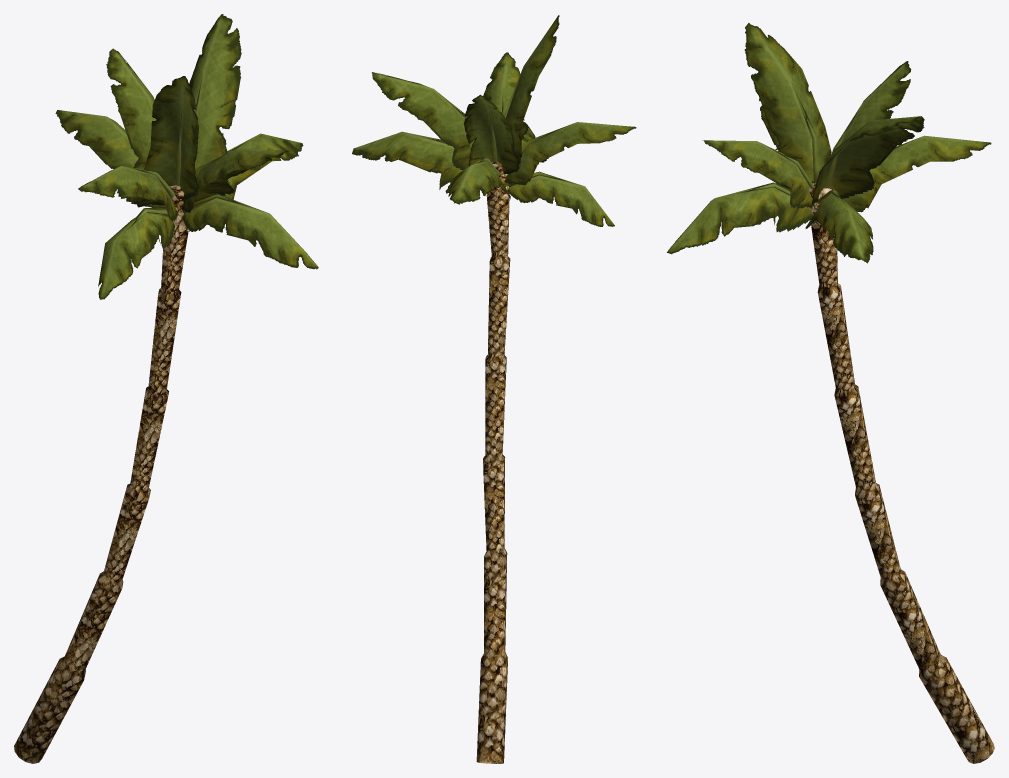
Rendered from SM_TI_Palm_Tree_5.fbx.
The picture shows the model from 3 angles, left to right: view 1: azimuth 30°, elevation 25°; view 2: azimuth 150°, elevation 25°; view 3: azimuth 270°, elevation 25°; orthographic projection. The views are drawn at different scales.
Parts seen in each view (by area): view 1: SM_TI_Palm_Tree_5; view 2: SM_TI_Palm_Tree_5; view 3: SM_TI_Palm_Tree_5.
Part boxes in pixels (x1=…): SM_TI_Palm_Tree_5: x1=14, y1=14, x2=318, y2=763; SM_TI_Palm_Tree_5: x1=352, y1=15, x2=636, y2=763; SM_TI_Palm_Tree_5: x1=667, y1=23, x2=994, y2=763.
Size of the model in its own units: 4.27 by 4.3 by 10.92.
